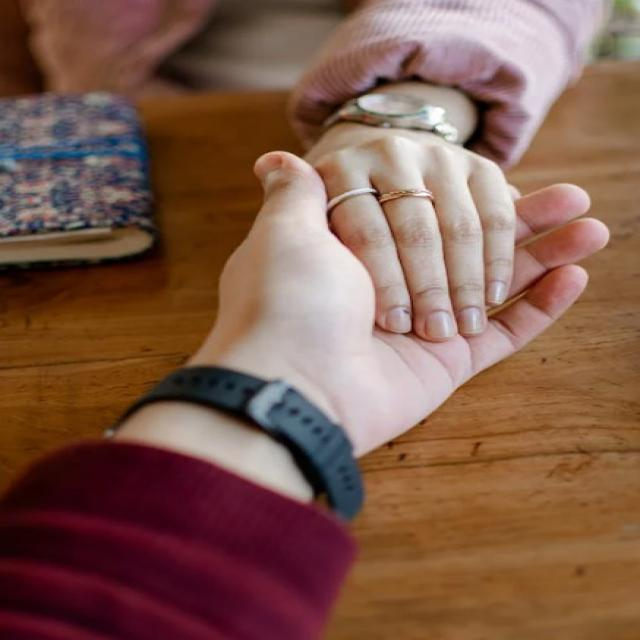Watch: (116, 356, 377, 515), (318, 89, 472, 144)
